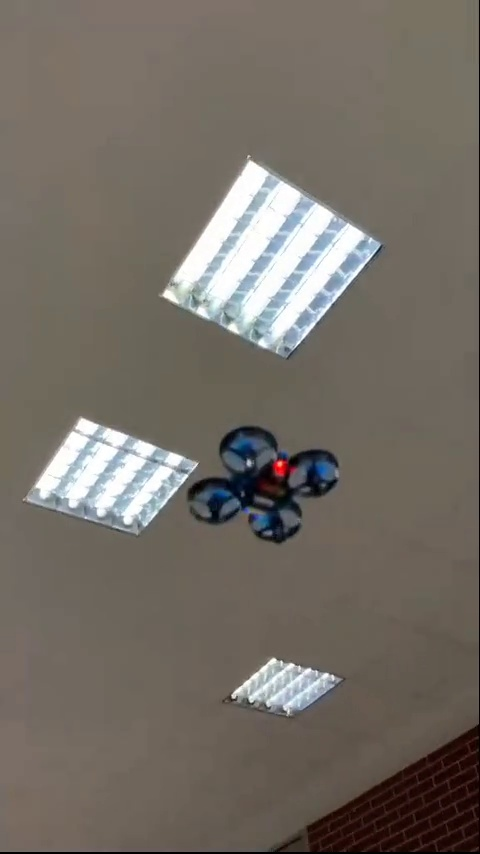drone: (196, 426, 336, 543)
